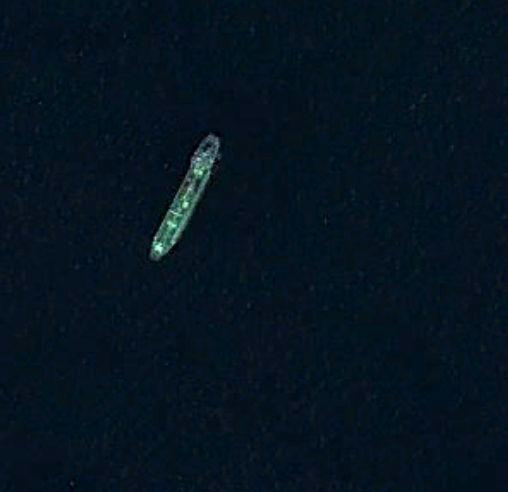Ships: (140, 130, 229, 262)
